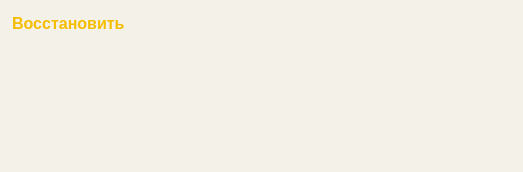
Test case: history UI › requires explicit confirmation
The image size is (523, 172).
Click the button "Восстановить" at (68, 24), box [12,12,124,36]
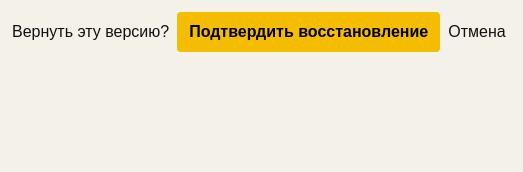
expect the button "Подтвердить восстановление" is shown: met, box [177,12,440,52]
